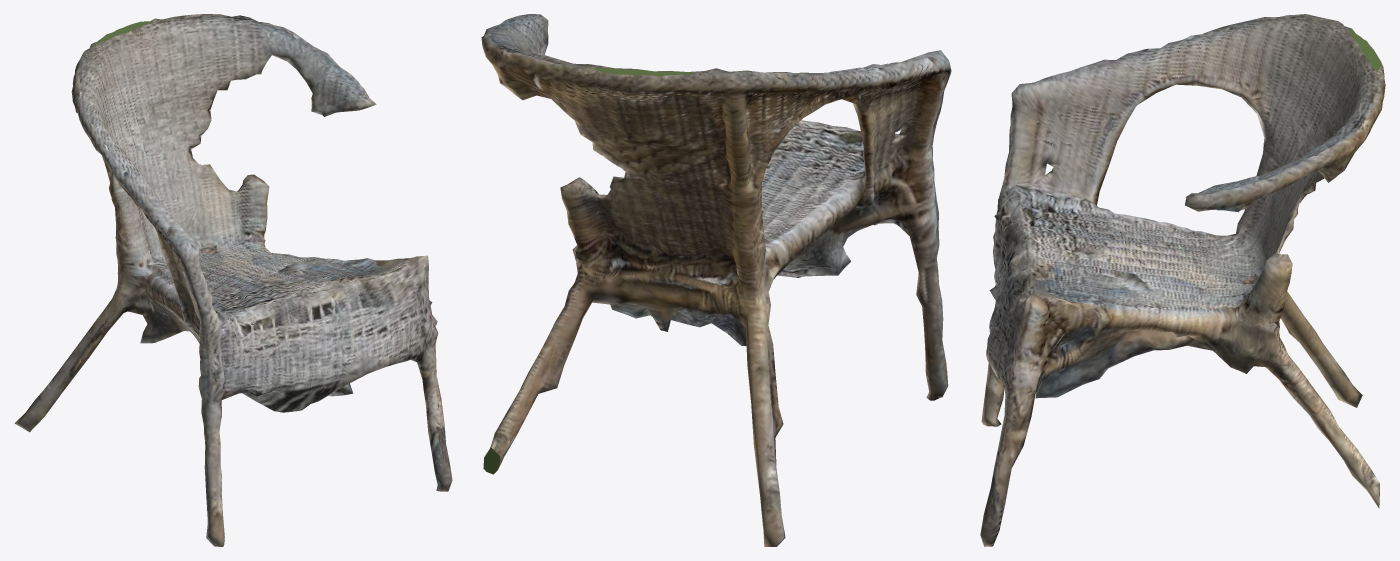
The model's file is broken_chair.glb.
The picture shows the model from 3 angles, left to right: view 1: azimuth 30°, elevation 25°; view 2: azimuth 150°, elevation 25°; view 3: azimuth 270°, elevation 25°; orthographic projection. The views are drawn at different scales.
Visible parts, largest first — view 1: imperfect_chair; view 2: imperfect_chair; view 3: imperfect_chair.
Part boxes in pixels (x1,y1,x2,y2): imperfect_chair: [14, 14, 452, 546]; imperfect_chair: [481, 14, 951, 546]; imperfect_chair: [980, 14, 1385, 546].
Bounding box in the file's own units: 0.6036 × 0.7613 × 0.6733.
Materials: 1 (1 with a texture image).
